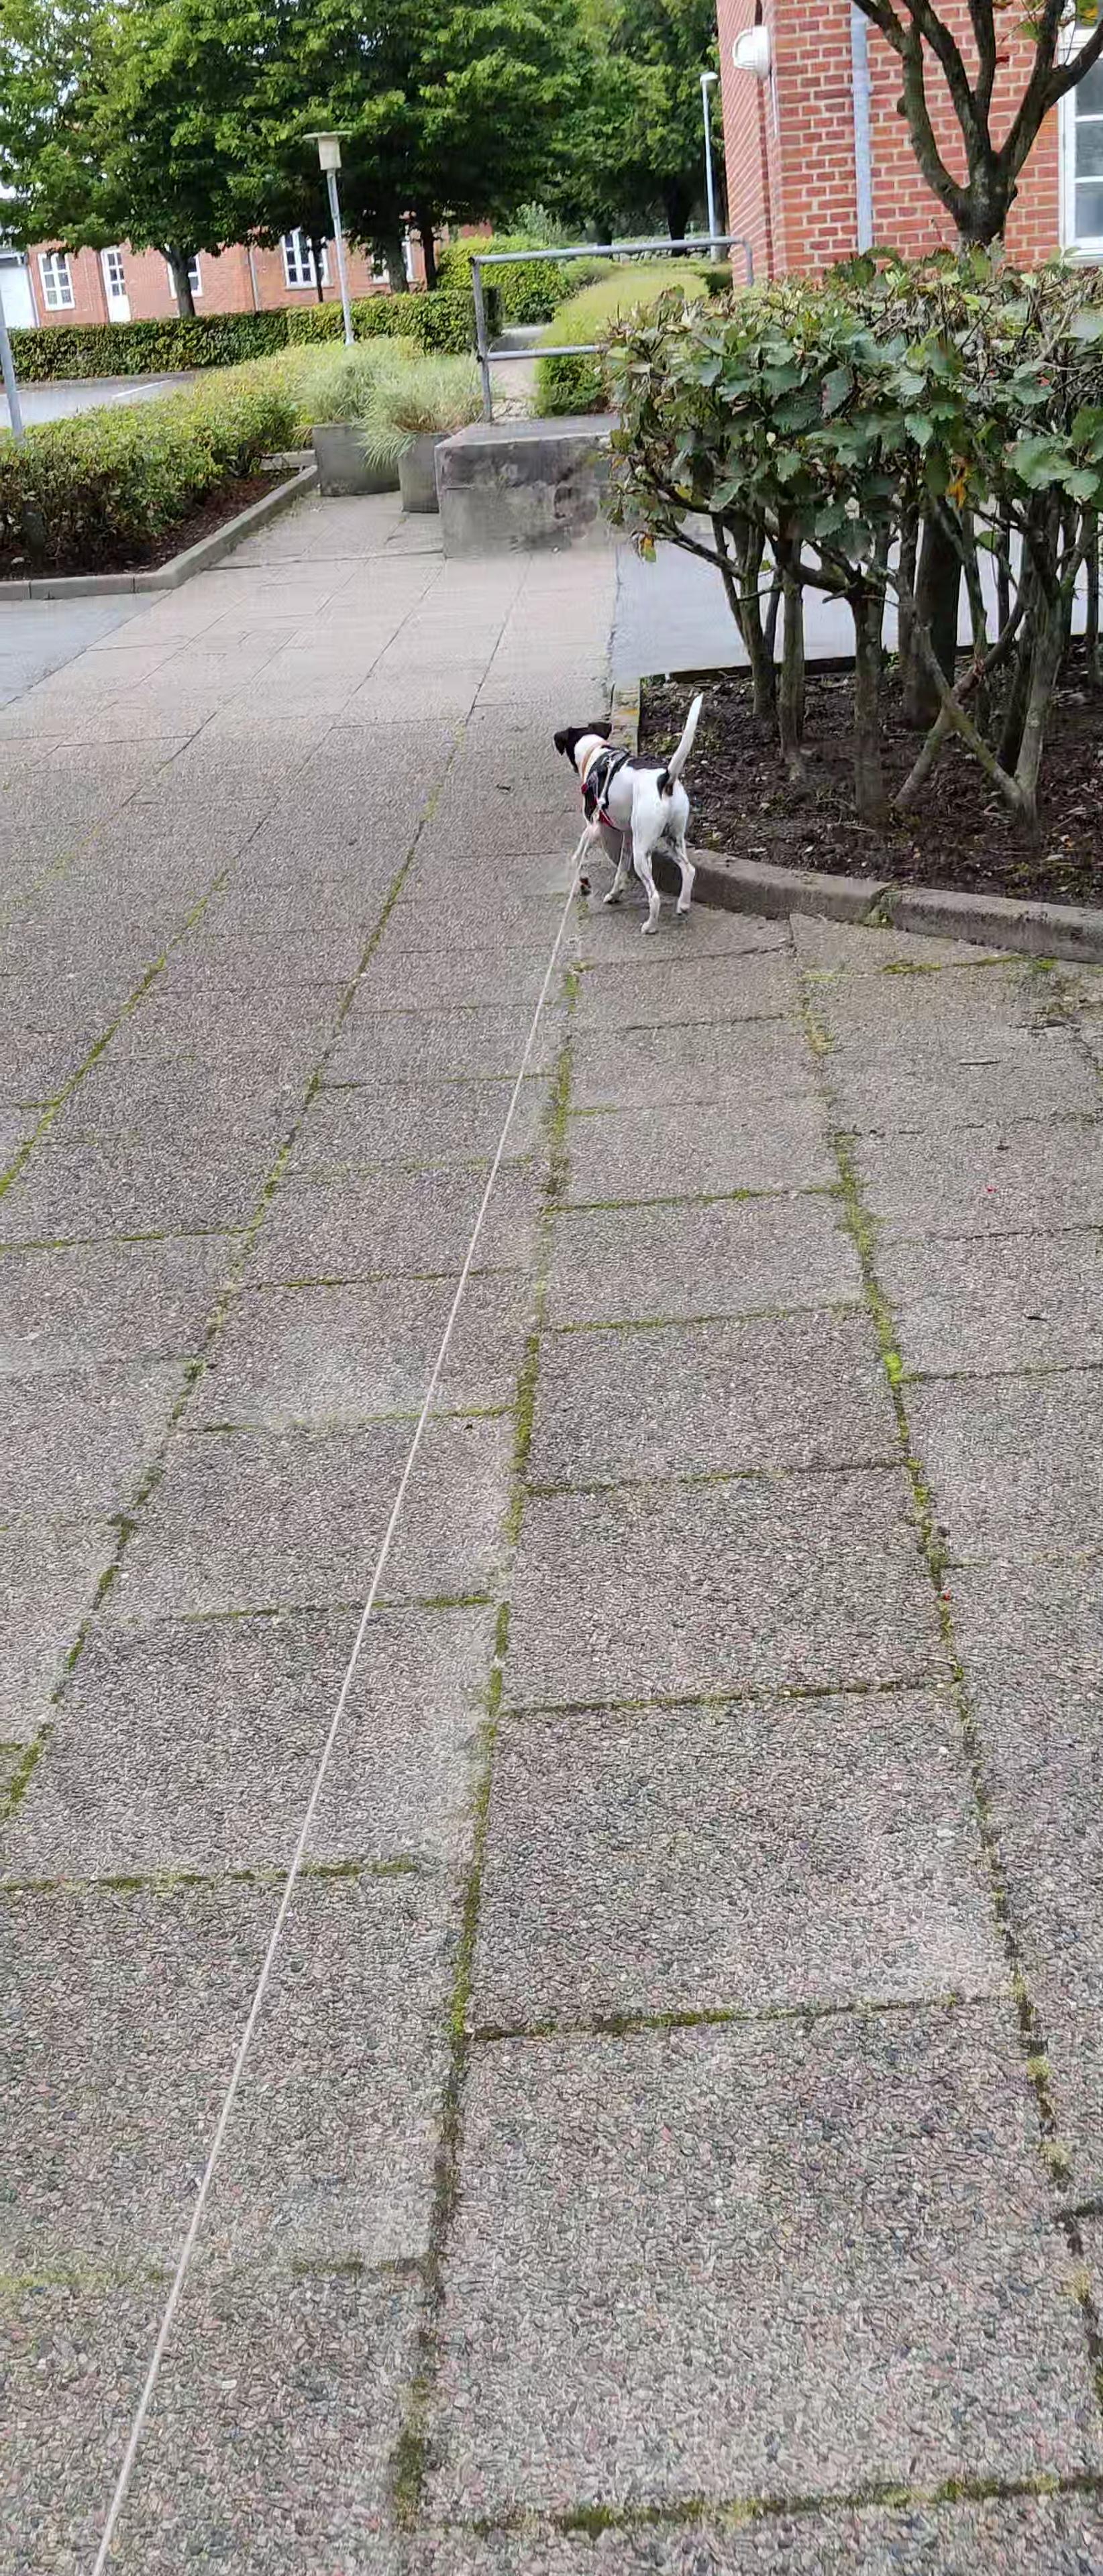Dog: (547, 688, 712, 936)
